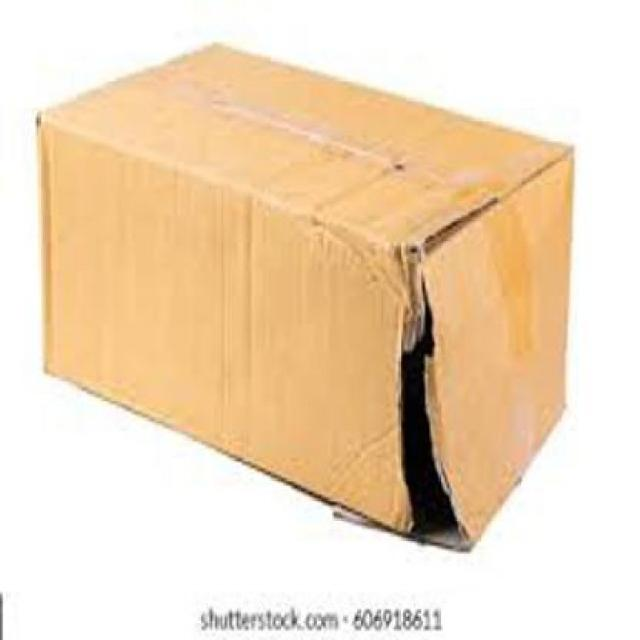defect: (34, 40, 578, 554)
